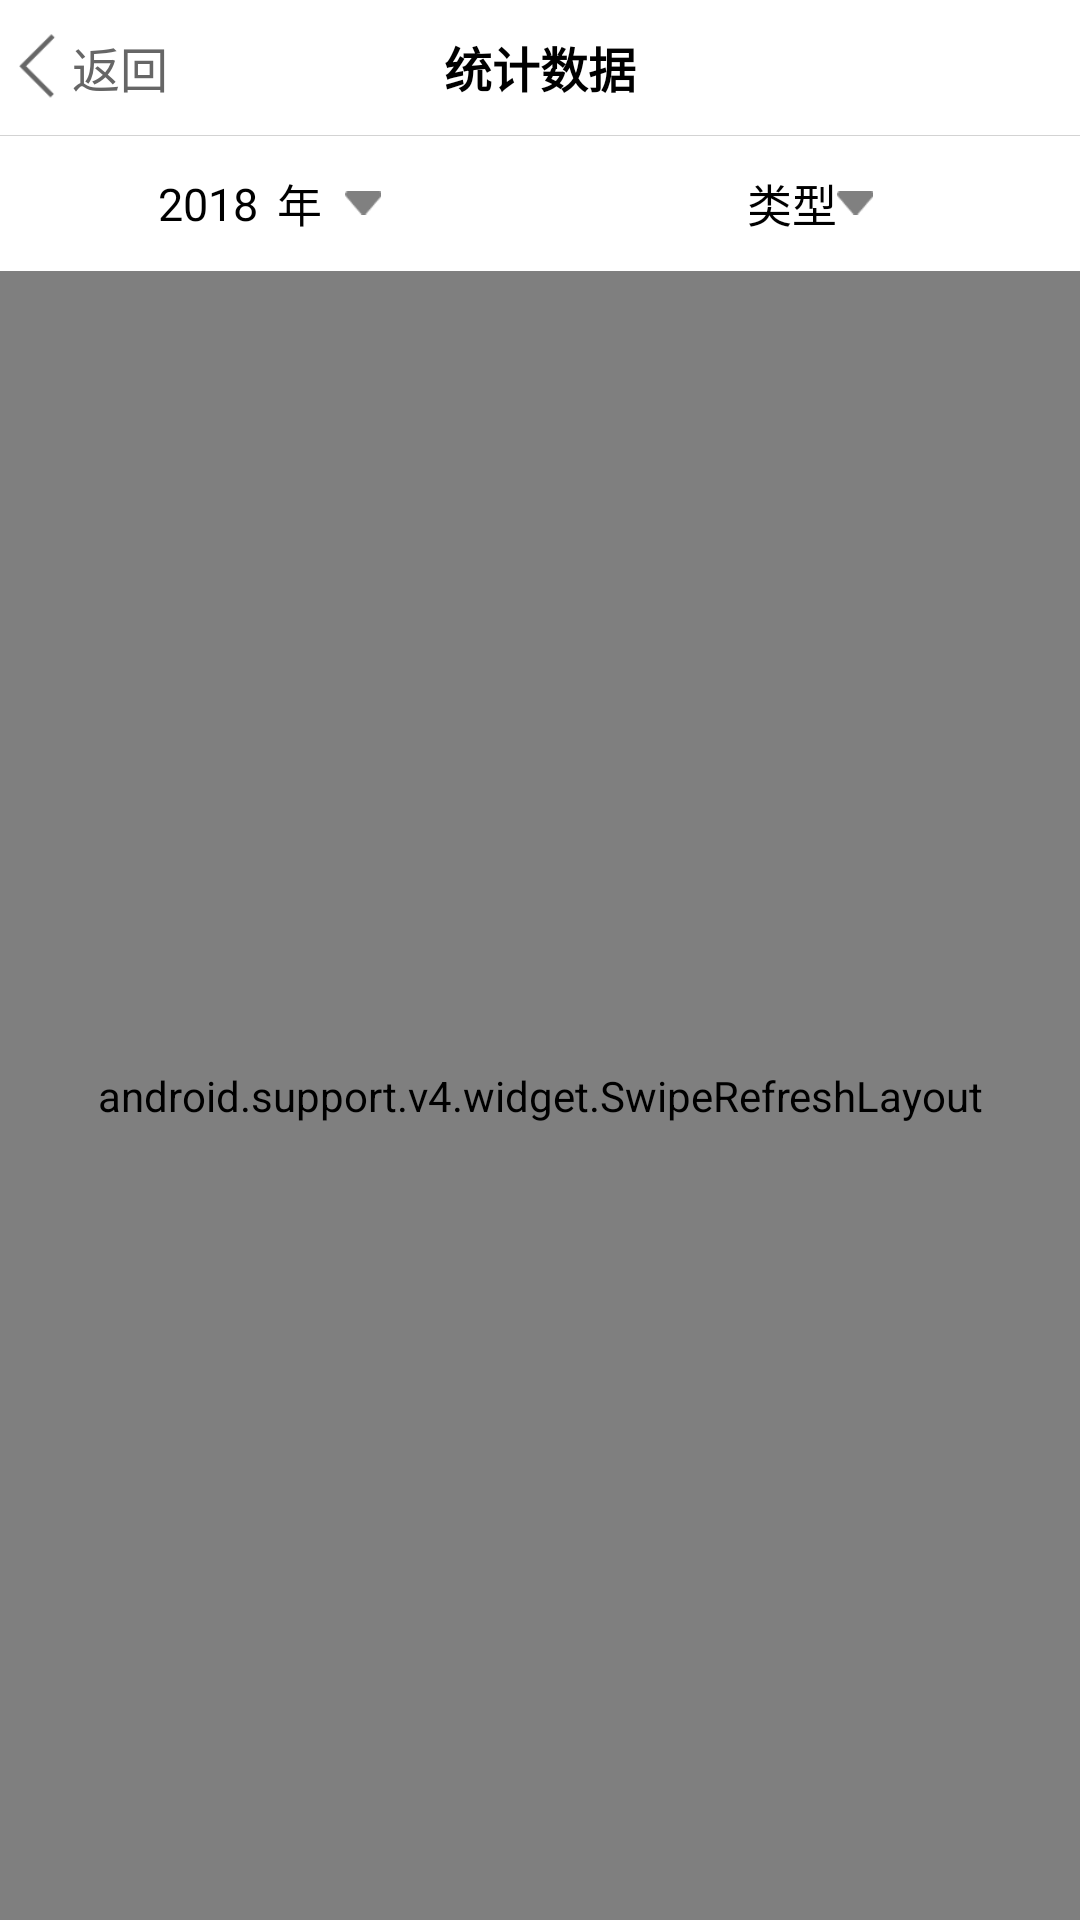

Where icons sit on this 1080w x 1920h app screen, as (x1, y1, x2, y2):
pull down: (345, 191, 381, 215), (837, 191, 873, 215)
